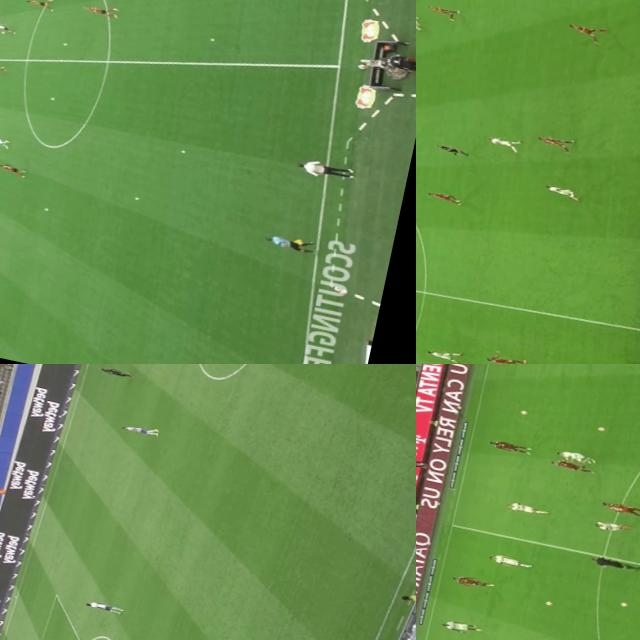ball: (616, 598, 630, 608), (542, 600, 554, 606), (516, 408, 528, 414), (595, 424, 605, 430), (209, 36, 216, 42), (180, 149, 188, 154), (0, 30, 7, 35), (43, 206, 49, 211), (133, 196, 139, 200), (50, 96, 56, 100), (62, 42, 68, 45)
player: (562, 18, 606, 42), (528, 132, 576, 150), (487, 436, 530, 456), (539, 181, 583, 200), (450, 572, 496, 590), (552, 457, 594, 476), (440, 618, 484, 636), (117, 421, 162, 438), (424, 187, 466, 205), (82, 596, 124, 614), (478, 131, 519, 149), (421, 2, 462, 20), (557, 448, 598, 466), (600, 499, 640, 517), (594, 518, 630, 536), (82, 1, 120, 18), (506, 500, 547, 515), (479, 351, 526, 364), (424, 346, 462, 362), (93, 364, 133, 379), (490, 553, 529, 568), (0, 161, 26, 177), (24, 0, 53, 10), (0, 21, 18, 33), (0, 133, 9, 148), (416, 12, 424, 28), (0, 61, 6, 74)
